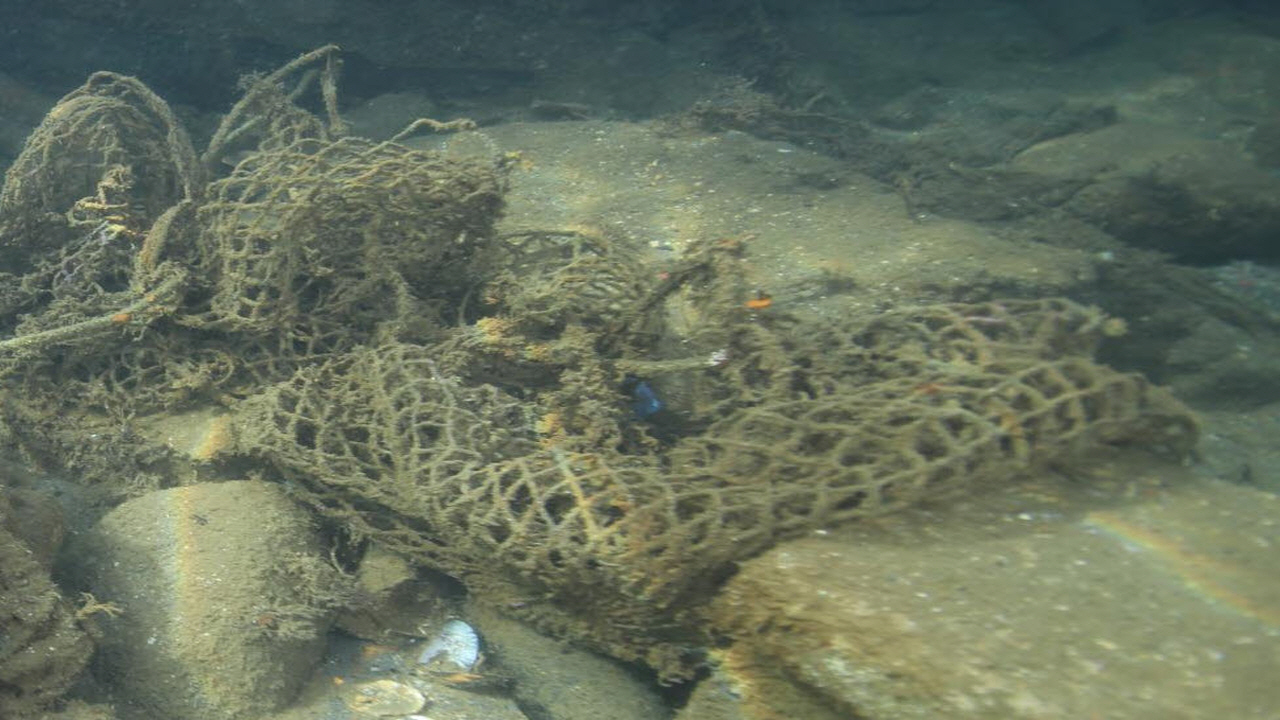fish net: (0, 70, 1202, 585)
